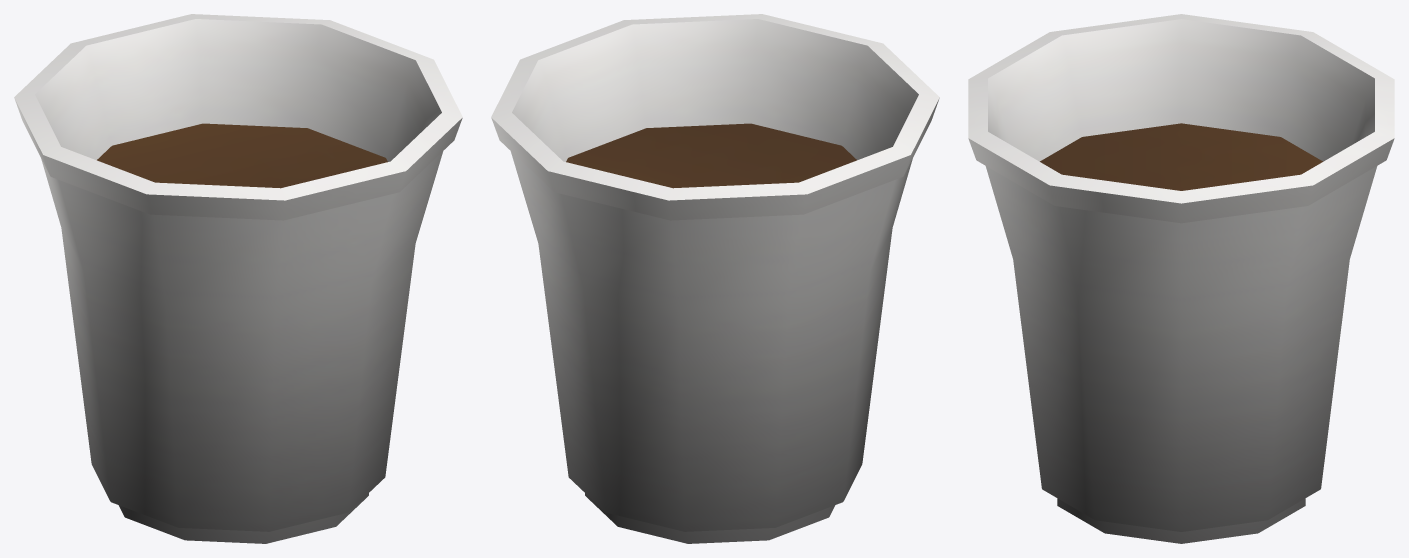
Rendered from PlantPotLargeA.fbx.
The picture shows the model from 3 angles, left to right: view 1: azimuth 30°, elevation 25°; view 2: azimuth 150°, elevation 25°; view 3: azimuth 270°, elevation 25°; orthographic projection.
Parts seen in each view (by area): view 1: PlantPotLargeA; view 2: PlantPotLargeA; view 3: PlantPotLargeA.
Part boxes in pixels (x1,y1,x2,y2): PlantPotLargeA: (14,14,462,543); PlantPotLargeA: (491,14,939,543); PlantPotLargeA: (968,14,1394,543).
Bounding box in the file's own units: 38.97 × 37.01 × 37.06.
